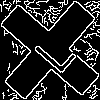L: (25, 25, 78, 76)
